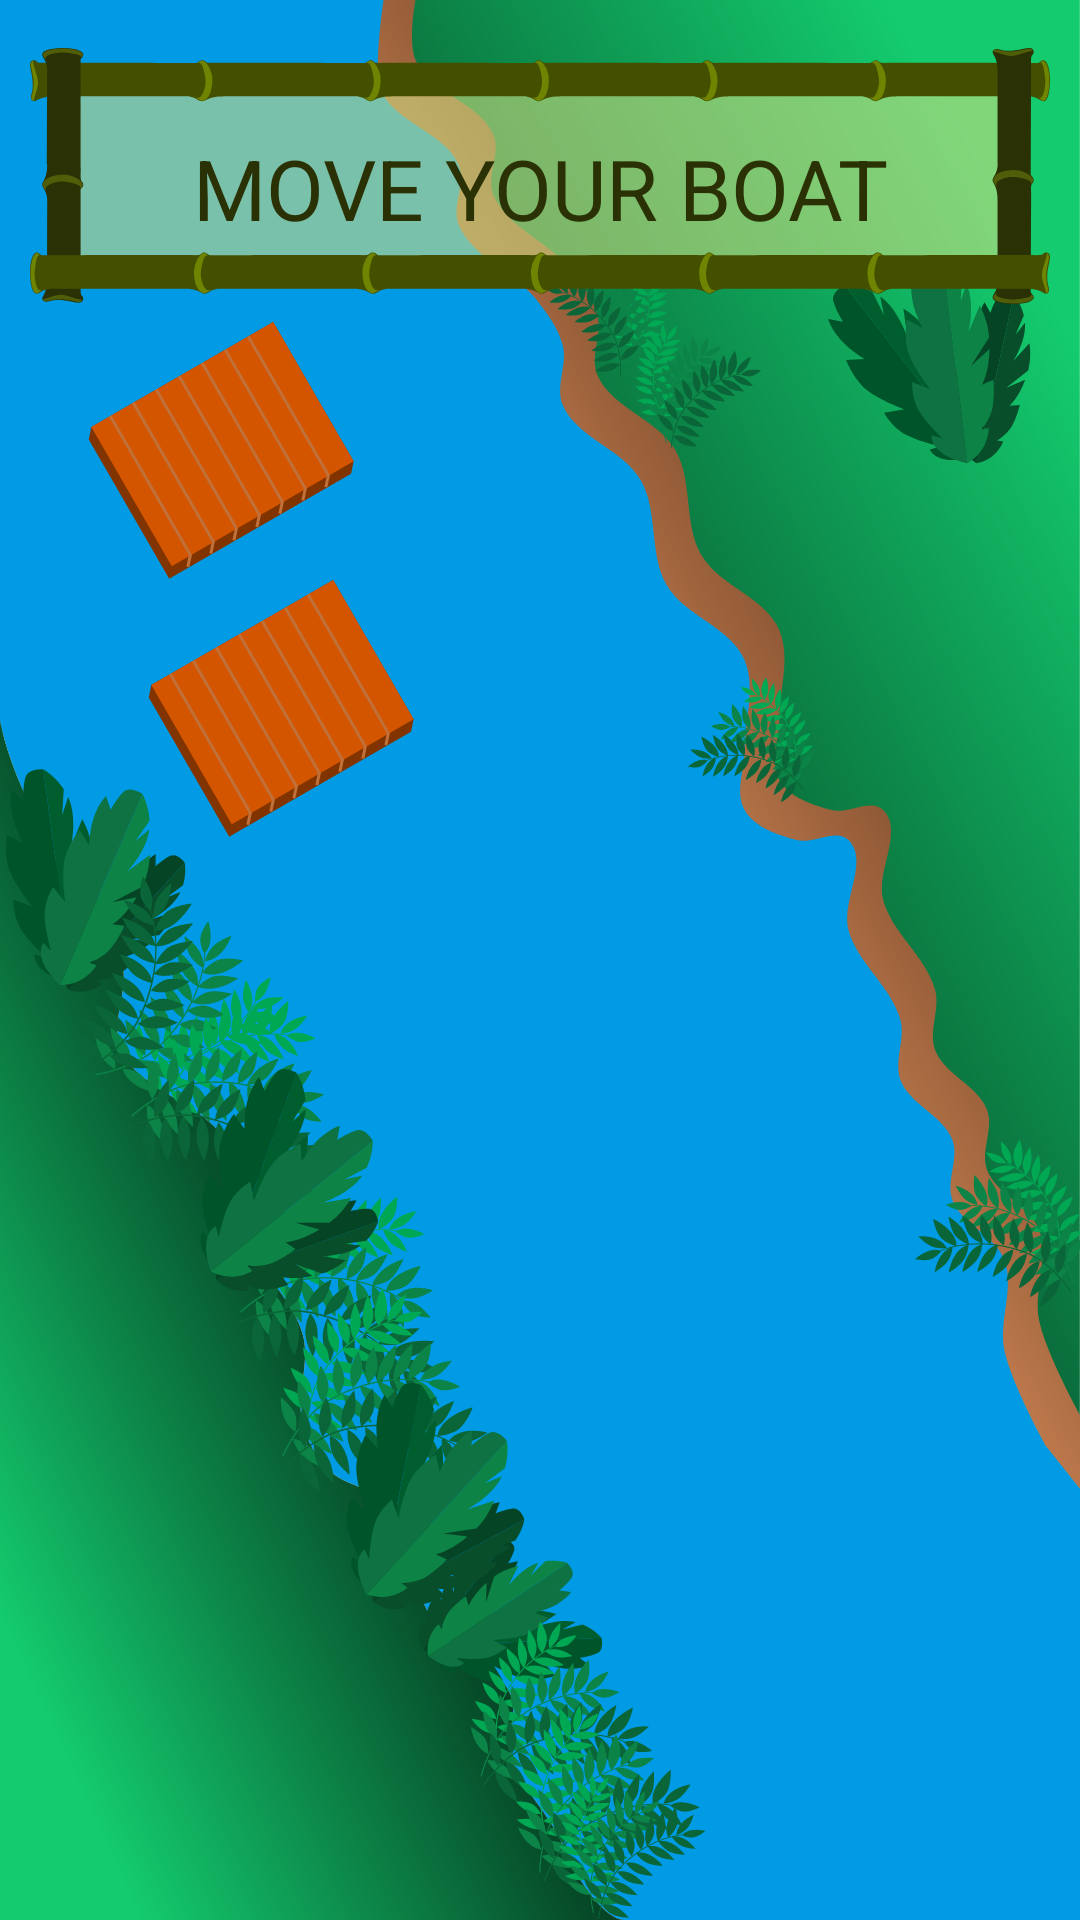

Icons on this 1080*1920 Android screen, each with its box as (x1,y1,x2,y2):
boat piece: (88,322,354,579), (148,580,414,837)
